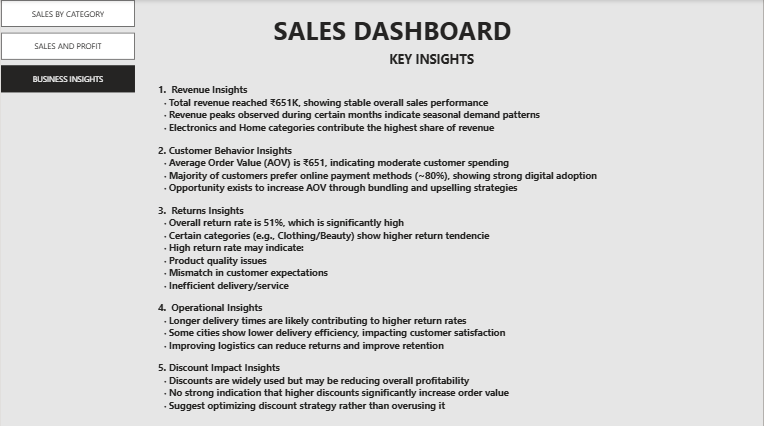

The dashboard page shown, as its layout file describes it:
{"tool":"powerbi","page":{"name":"BUSINESS INSIGHTS","canvas":[1280,720],"ordinal":2},"visuals":[{"type":"textbox","box":[299,0,717.3,94.1],"z":0},{"type":"pageNavigator","box":[0,0,225.1,157.9],"z":1000},{"type":"textbox","box":[258.7,79,1021.3,641.7],"z":2000}]}

Visuals, with their boxes on the page's 1280x720 design canvas (x1, y1, x2, y2). These are canvas units, not pixel positions in the 764x426 screenshot, which may show the page scaled, cropped or inside an application window:
textbox: [299, 0, 1016, 94]
pageNavigator: [0, 0, 225, 158]
textbox: [259, 79, 1280, 721]
